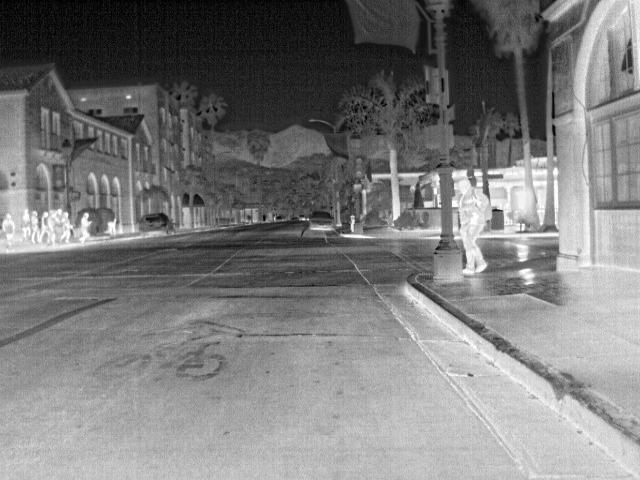car: (134, 212, 173, 237), (309, 210, 337, 232)
person: (456, 177, 491, 275), (75, 212, 92, 244), (17, 209, 33, 243), (2, 212, 18, 246), (60, 210, 74, 245), (29, 209, 43, 243)
